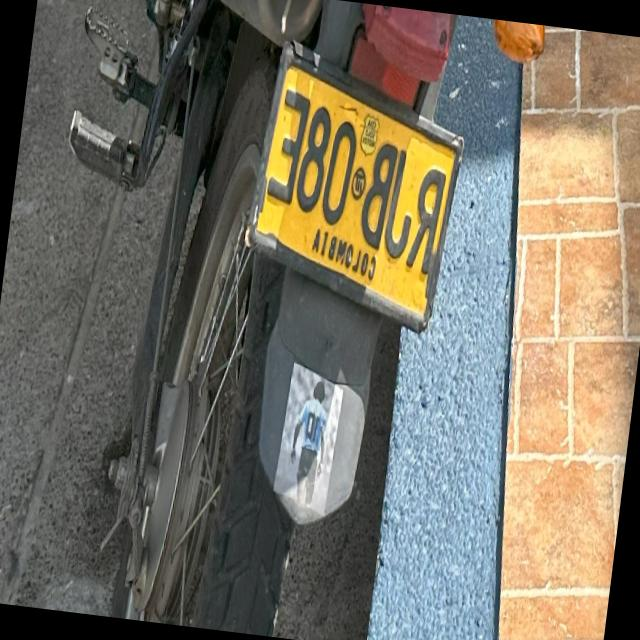number plate: (250, 41, 463, 328)
